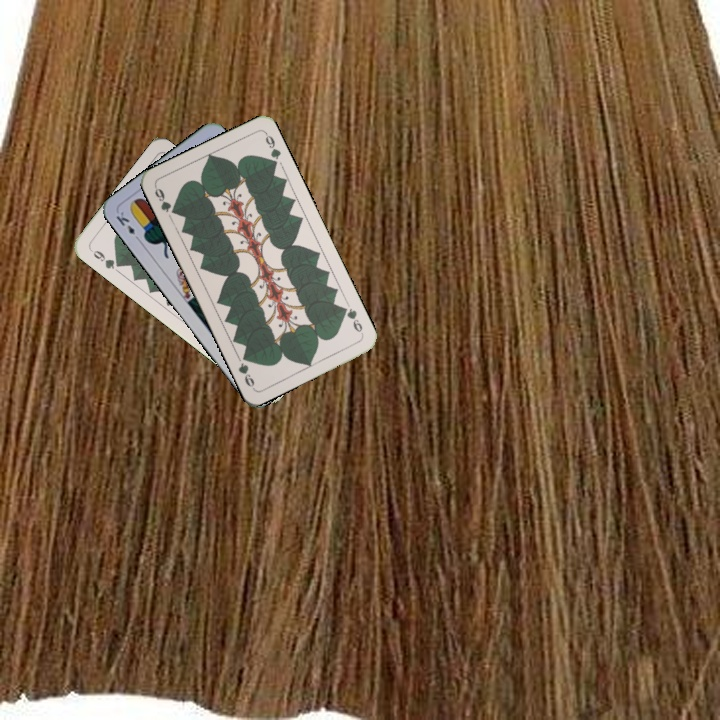EK: (112, 207, 143, 244)
G9: (86, 245, 124, 272), (151, 182, 180, 217), (337, 302, 366, 337)
